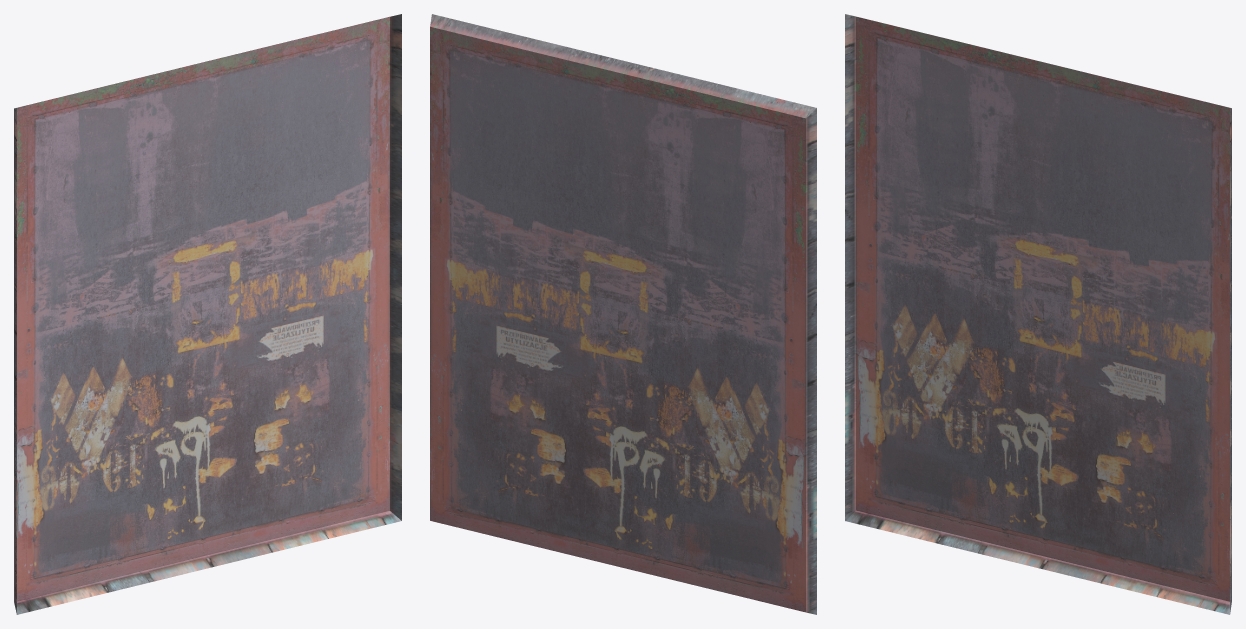
File: sm_Wall_06_16_Window.fbx
3 renders of one model, left to right at view 1: azimuth 30°, elevation 25°; view 2: azimuth 150°, elevation 25°; view 3: azimuth 330°, elevation 25°, orthographic.
Parts seen in each view (by area): view 1: sm_Wall_06_16_Window_LOD0; view 2: sm_Wall_06_16_Window_LOD0; view 3: sm_Wall_06_16_Window_LOD0.
Part boxes in pixels (x1,y1,x2,y2): sm_Wall_06_16_Window_LOD0: (14,14,401,614); sm_Wall_06_16_Window_LOD0: (430,14,816,614); sm_Wall_06_16_Window_LOD0: (845,14,1231,614).
Size of the model in its own units: 5.31 by 172 by 217.
